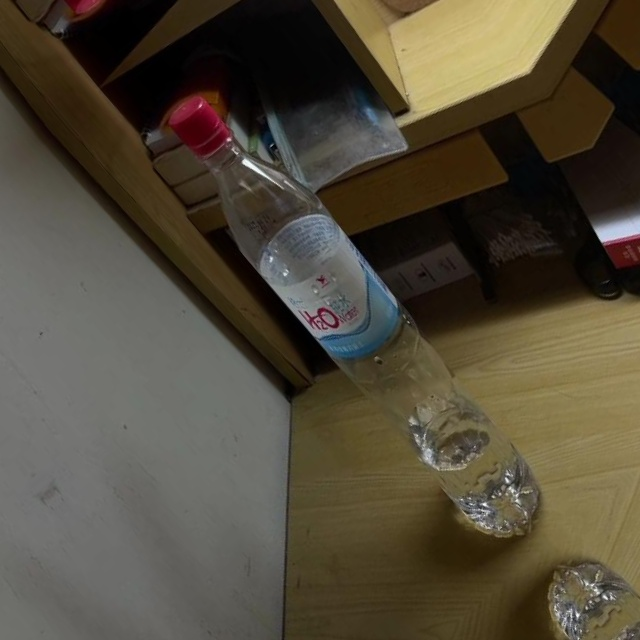Water: (139, 71, 568, 557)
